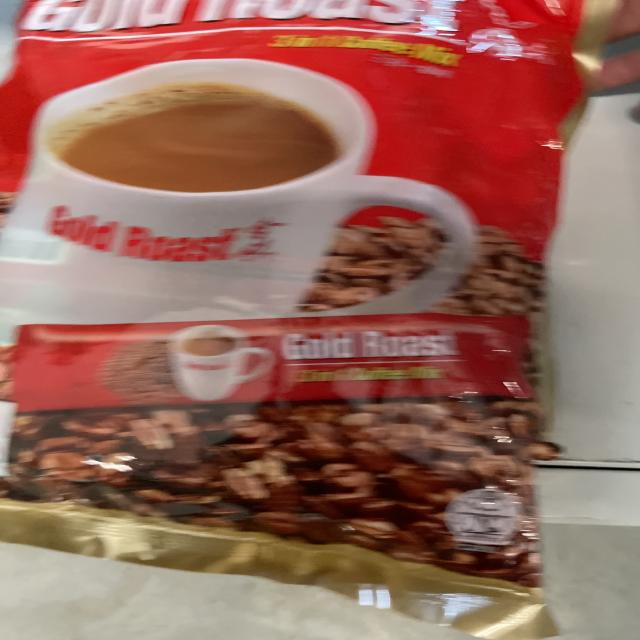object_name: (2, 0, 551, 623)
